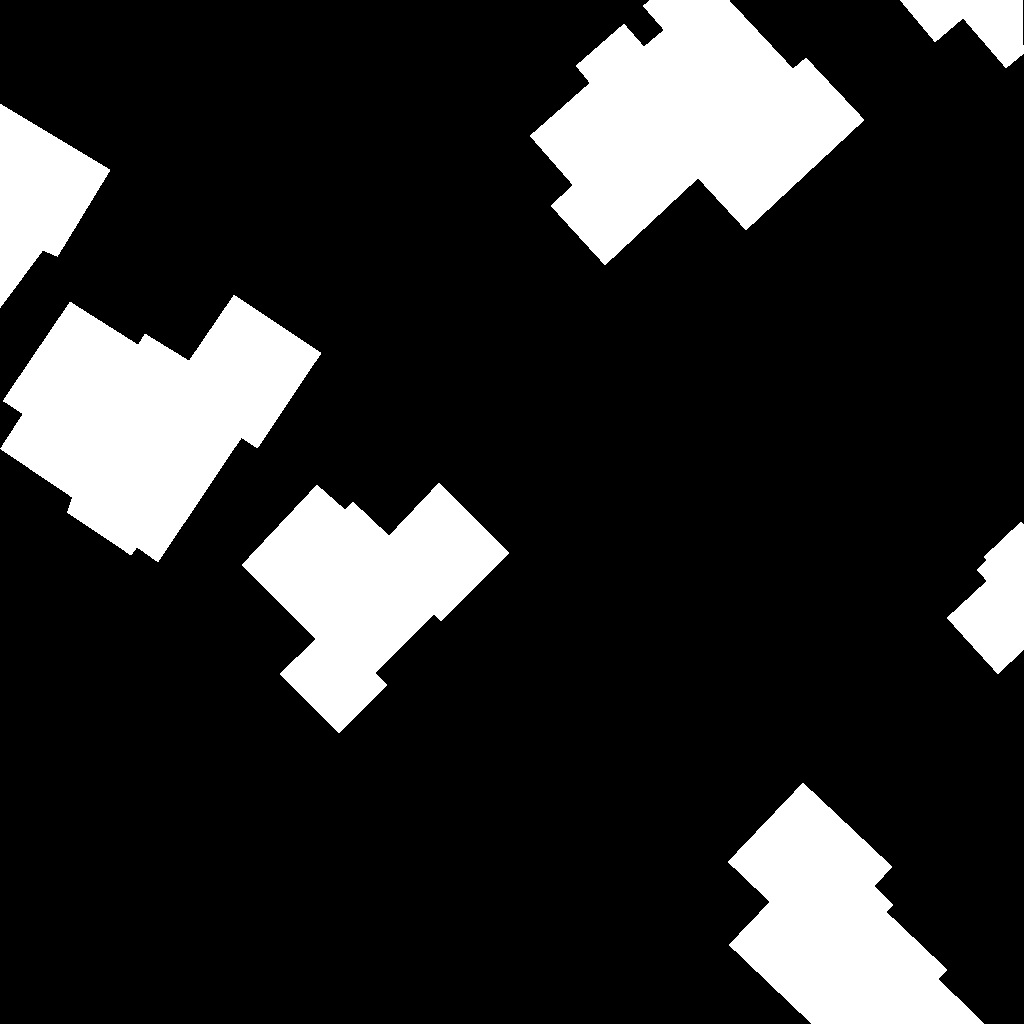building: (530, 0, 865, 266), (0, 295, 322, 563), (242, 483, 510, 734), (728, 783, 985, 1024), (0, 104, 111, 309), (947, 522, 1024, 675), (900, 0, 1024, 69)
